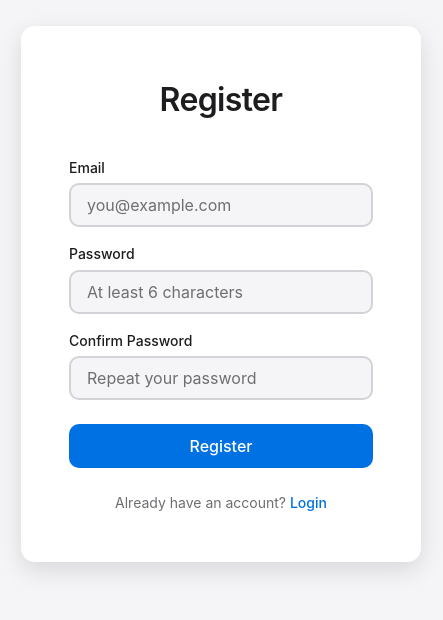
Test: RegisterPage › shows error when email is empty
Click the button "Register": [221, 446] box [69,424,373,468]
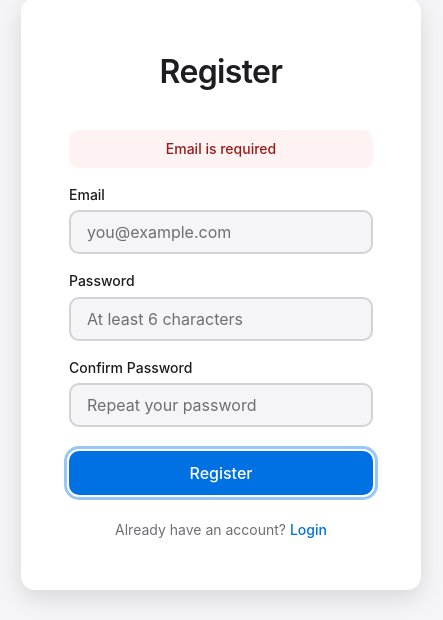
Expected: the message reads "Email is required", [166,140,276,157]
